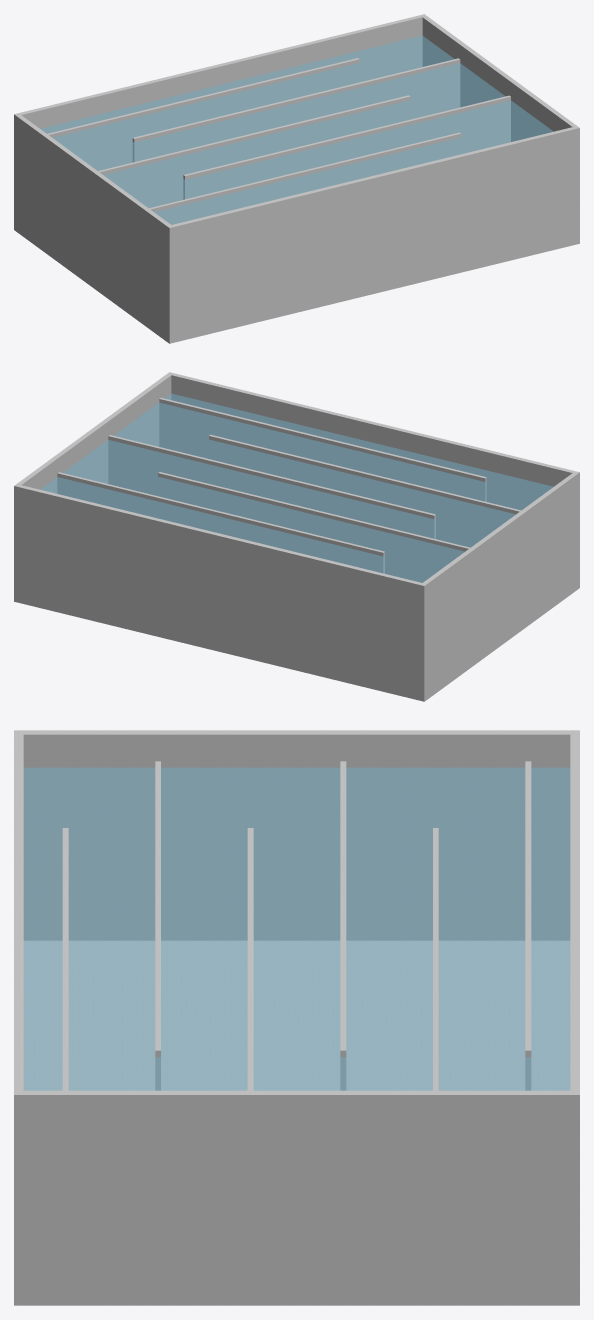
The model's file is 清水池_3.glb.
3 renders of one model, top to bottom at view 1: azimuth 30°, elevation 25°; view 2: azimuth 150°, elevation 25°; view 3: azimuth 270°, elevation 25°, orthographic. The views are drawn at different scales.
Parts seen in each view (by area): view 1: qingsc_033, water_1_200_8000, qingsc_036, qingsc_038, qingsc_037, qingsc_035, qingsc_039; view 2: qingsc_033, water_1_200_8000, qingsc_040, qingsc_038, qingsc_039, qingsc_037, qingsc_036; view 3: qingsc_033, water_1_200_8000, qingsc_035, qingsc_037, qingsc_039, qingsc_038, qingsc_040, qingsc_036.
Boxes of the visible parts, x1,y1,x2,y2 form: qingsc_033: (14, 14, 579, 343); water_1_200_8000: (40, 35, 553, 224); qingsc_036: (132, 58, 460, 162); qingsc_038: (183, 95, 510, 199); qingsc_037: (98, 95, 410, 207); qingsc_035: (47, 58, 359, 170); qingsc_039: (149, 132, 461, 224); qingsc_033: (14, 372, 579, 701); water_1_200_8000: (40, 393, 553, 582); qingsc_040: (159, 398, 486, 501); qingsc_038: (108, 435, 435, 538); qingsc_039: (209, 434, 520, 547); qingsc_037: (158, 472, 470, 582); qingsc_036: (57, 472, 384, 573); qingsc_033: (14, 730, 579, 1305); water_1_200_8000: (23, 767, 570, 1090); qingsc_035: (525, 761, 531, 1090); qingsc_037: (340, 761, 346, 1090); qingsc_039: (155, 761, 160, 1090); qingsc_038: (247, 828, 253, 1090); qingsc_040: (62, 828, 68, 1090); qingsc_036: (433, 828, 438, 1090).
Bounding box in the file's own units: 35.25 × 9.5 × 23.13.
3 materials, 2 textured.
